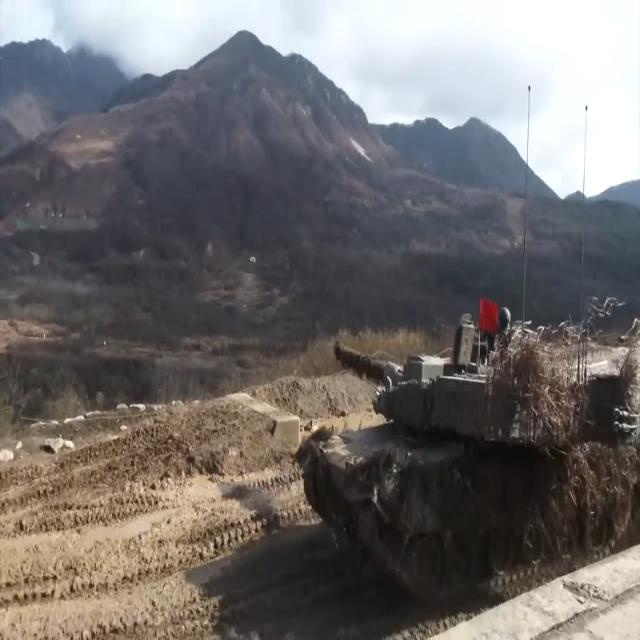korea tank: (291, 294, 640, 608)
